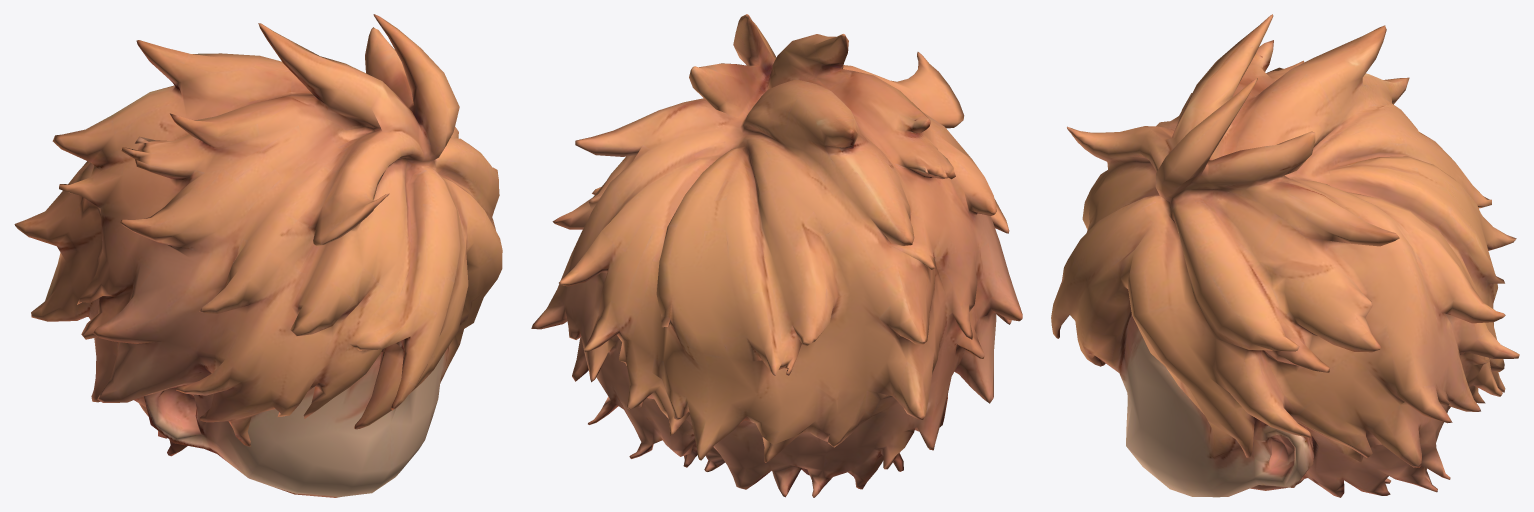
3 renders of one model, left to right at view 1: azimuth 30°, elevation 25°; view 2: azimuth 150°, elevation 25°; view 3: azimuth 270°, elevation 25°, orthographic. The views are drawn at different scales.
Visible parts, largest first — view 1: tripo_node_3eea2bd2-5199-4cbc-8098-9c7cf11bf7c6; view 2: tripo_node_3eea2bd2-5199-4cbc-8098-9c7cf11bf7c6; view 3: tripo_node_3eea2bd2-5199-4cbc-8098-9c7cf11bf7c6.
Boxes of the visible parts, x1,y1,x2,y2 form: tripo_node_3eea2bd2-5199-4cbc-8098-9c7cf11bf7c6: [14, 14, 502, 497]; tripo_node_3eea2bd2-5199-4cbc-8098-9c7cf11bf7c6: [531, 14, 1022, 497]; tripo_node_3eea2bd2-5199-4cbc-8098-9c7cf11bf7c6: [1051, 14, 1519, 497].
Bounding box in the file's own units: 0.9647 × 0.971 × 0.9275.
Materials: 1 (1 with a texture image).
